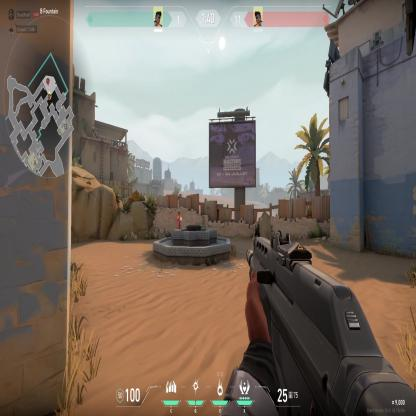enemy: (176, 210, 183, 230)
